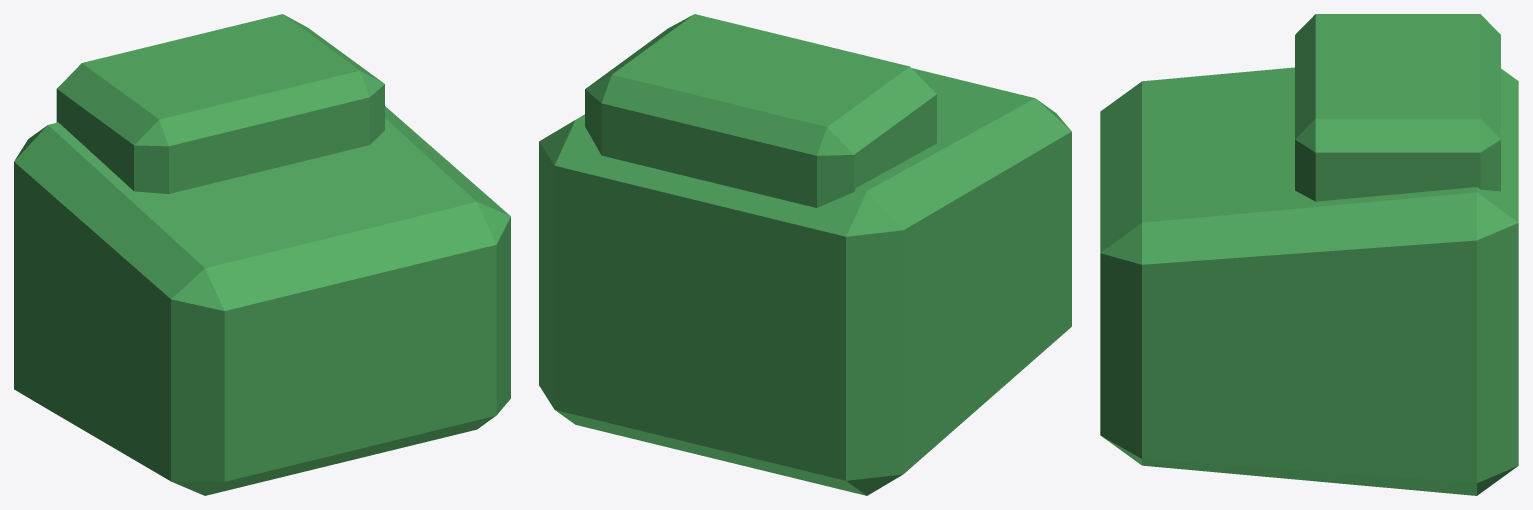
The model's file is GreenBeanbag.fbx.
3 renders of one model, left to right at view 1: azimuth 30°, elevation 25°; view 2: azimuth 150°, elevation 25°; view 3: azimuth 270°, elevation 25°, orthographic. The views are drawn at different scales.
Parts seen in each view (by area): view 1: GreenBeanbag; view 2: GreenBeanbag; view 3: GreenBeanbag.
Boxes of the visible parts, bbox=[...] form: GreenBeanbag: bbox=[14, 14, 510, 495]; GreenBeanbag: bbox=[539, 14, 1071, 495]; GreenBeanbag: bbox=[1100, 14, 1518, 495].
Size of the model in its own units: 2.6 by 2.46 by 2.6.
1 material, 1 textured.
